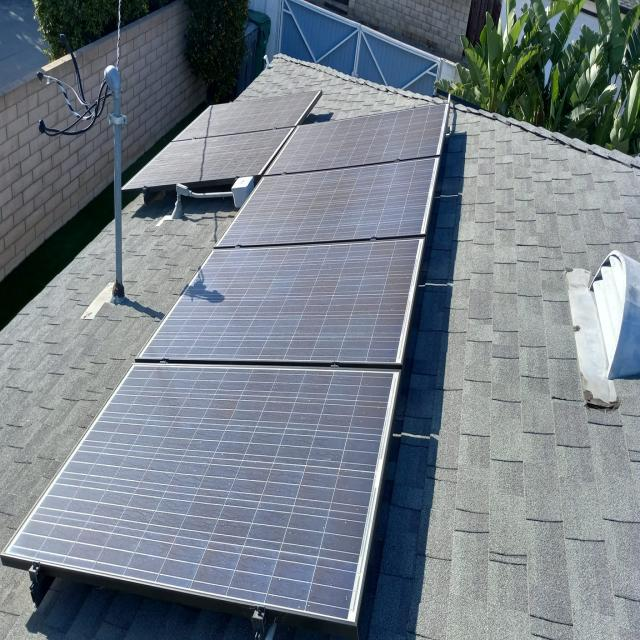dust-solar-panel: (0, 93, 450, 622)
